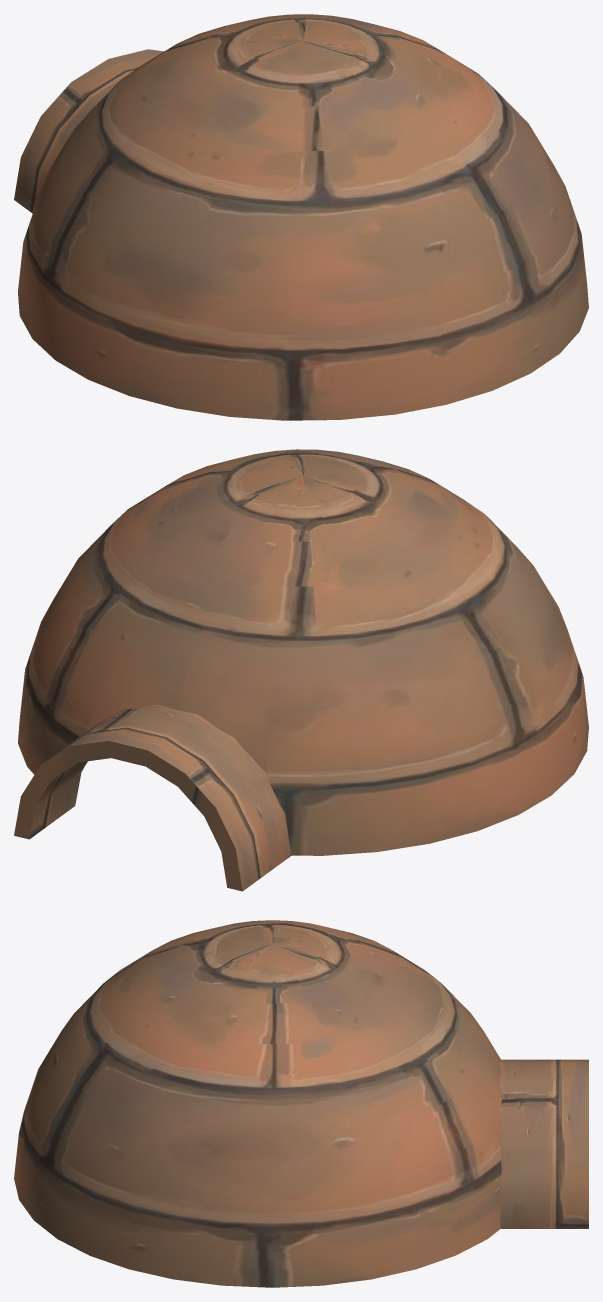
File: Igloo.FBX
The picture shows the model from 3 angles, top to bottom: view 1: azimuth 30°, elevation 25°; view 2: azimuth 150°, elevation 25°; view 3: azimuth 270°, elevation 25°; orthographic projection. The views are drawn at different scales.
Visible parts, largest first — view 1: Sphere001; view 2: Sphere001; view 3: Sphere001.
Part boxes in pixels (left/top/right/bottom): Sphere001: left=14, top=14, right=588, bottom=420; Sphere001: left=14, top=449, right=588, bottom=891; Sphere001: left=14, top=920, right=588, bottom=1287.
Bounding box in the file's own units: 63.89 × 71.04 × 31.97.
1 material, 1 textured.
